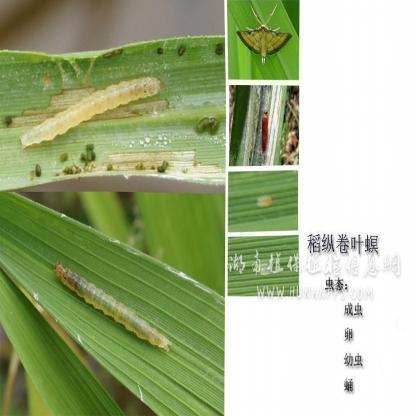leaf-folder: (44, 246, 176, 366), (12, 73, 166, 149), (259, 99, 274, 156), (250, 188, 279, 212)
